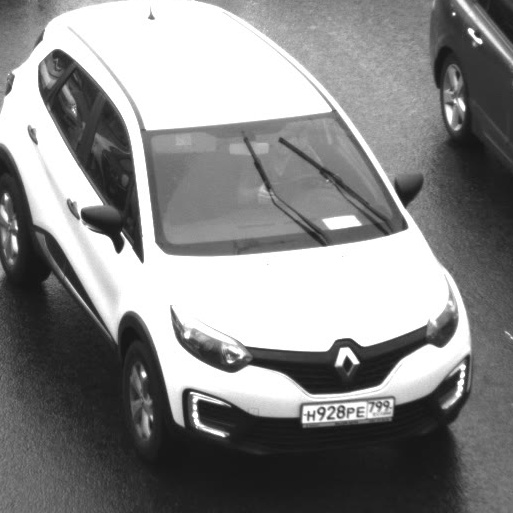plate: (289, 383, 402, 432)
